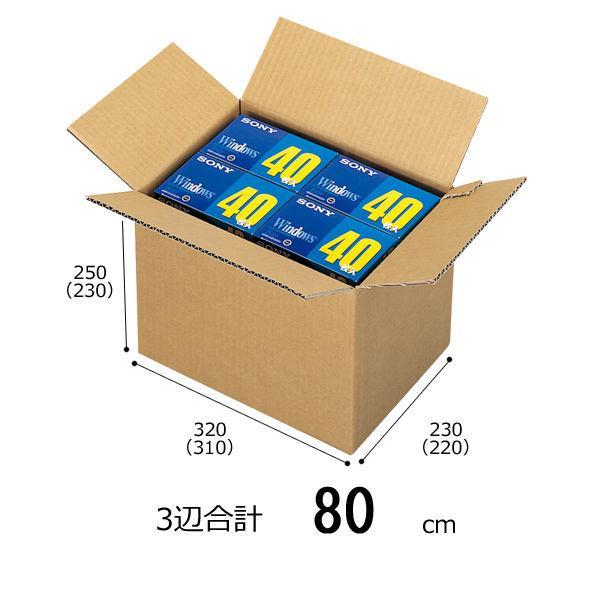box: (76, 16, 530, 459)
